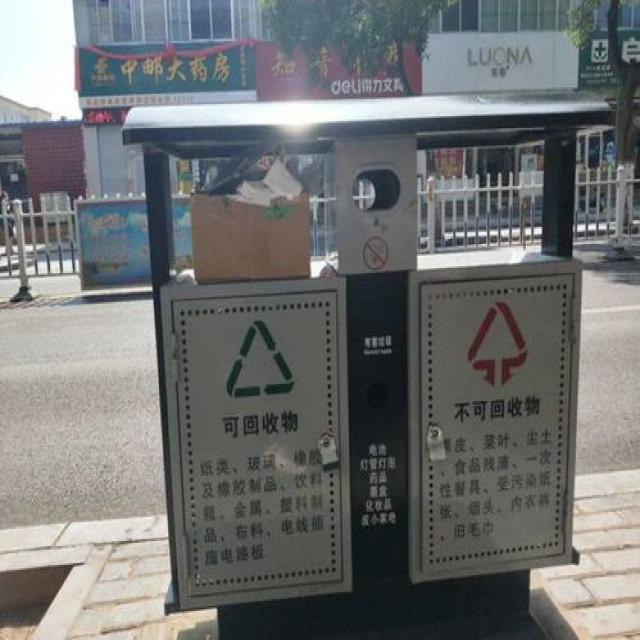overflow: (120, 89, 614, 638)
